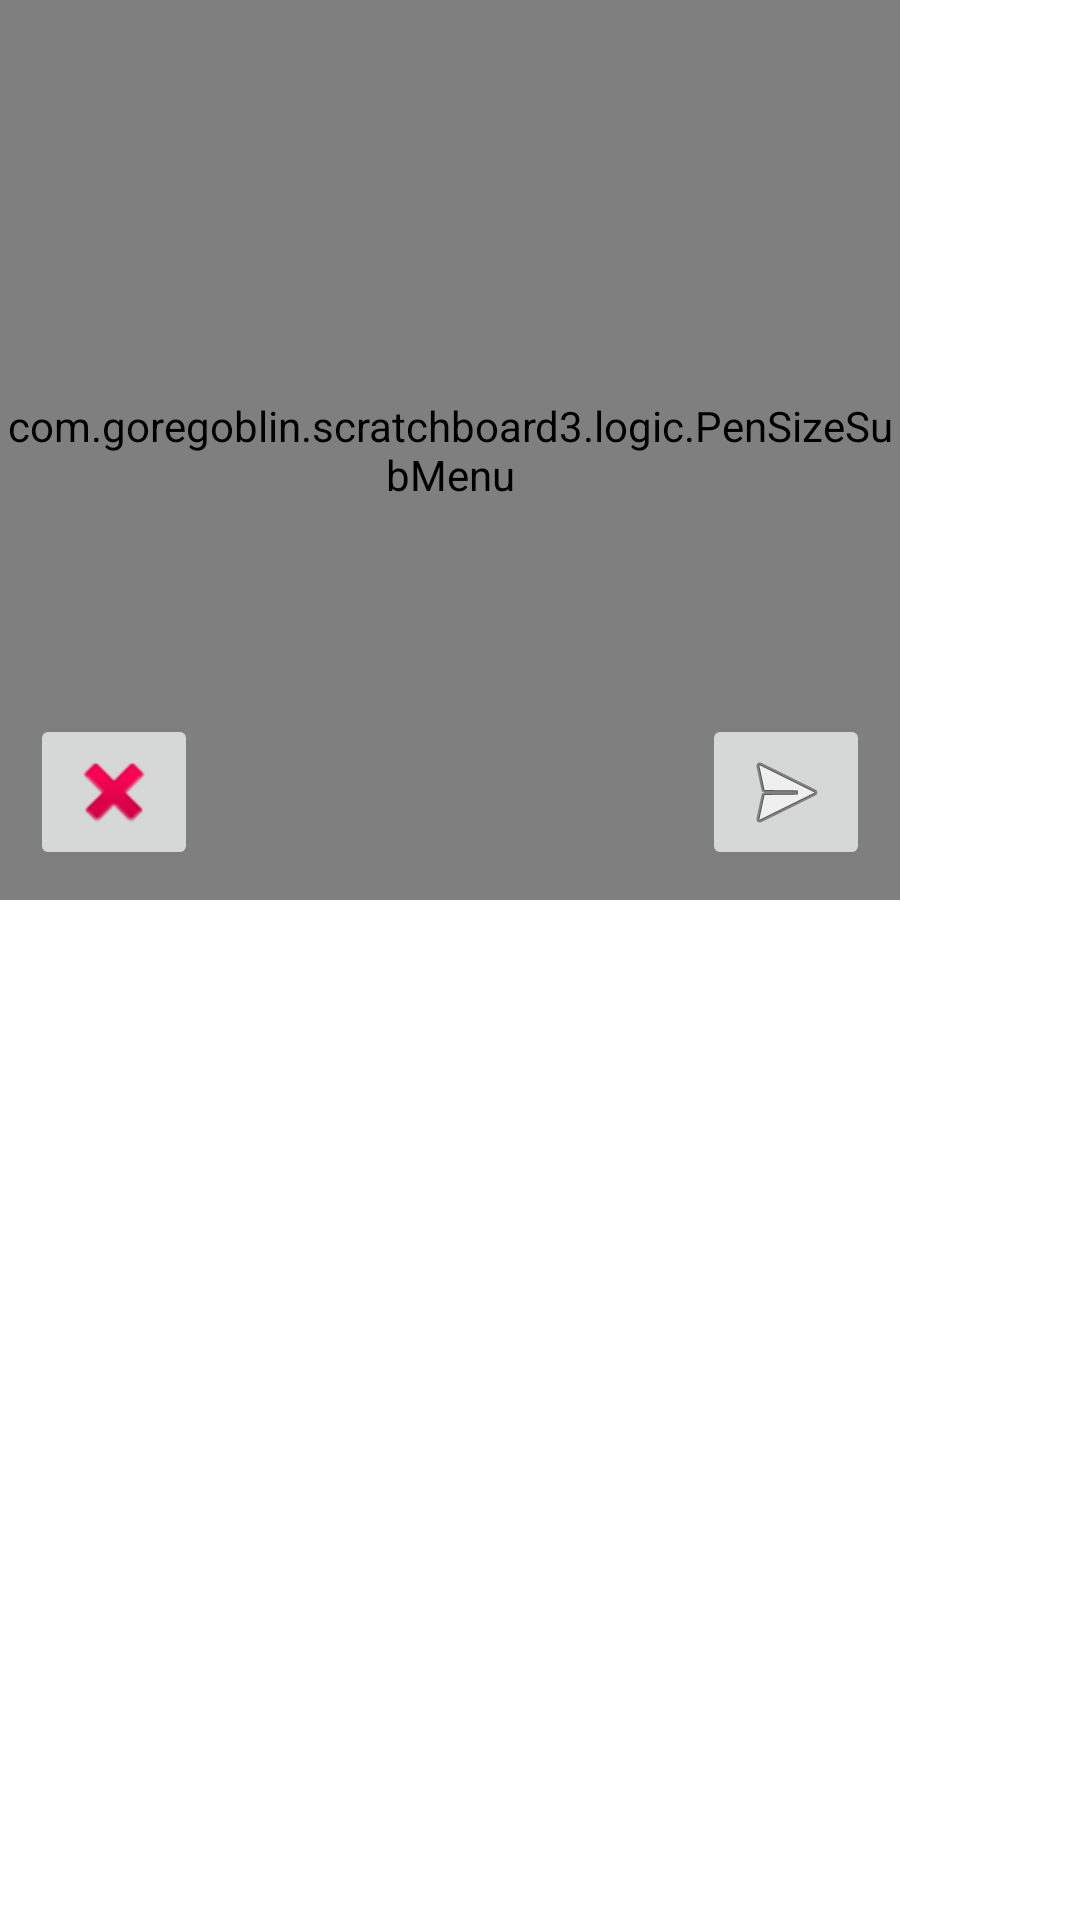

Where icons sit on this 1080x1920 app screen, as (x1, y1, x2, y2):
delete: (42, 732, 186, 852)
send: (714, 732, 858, 852)
